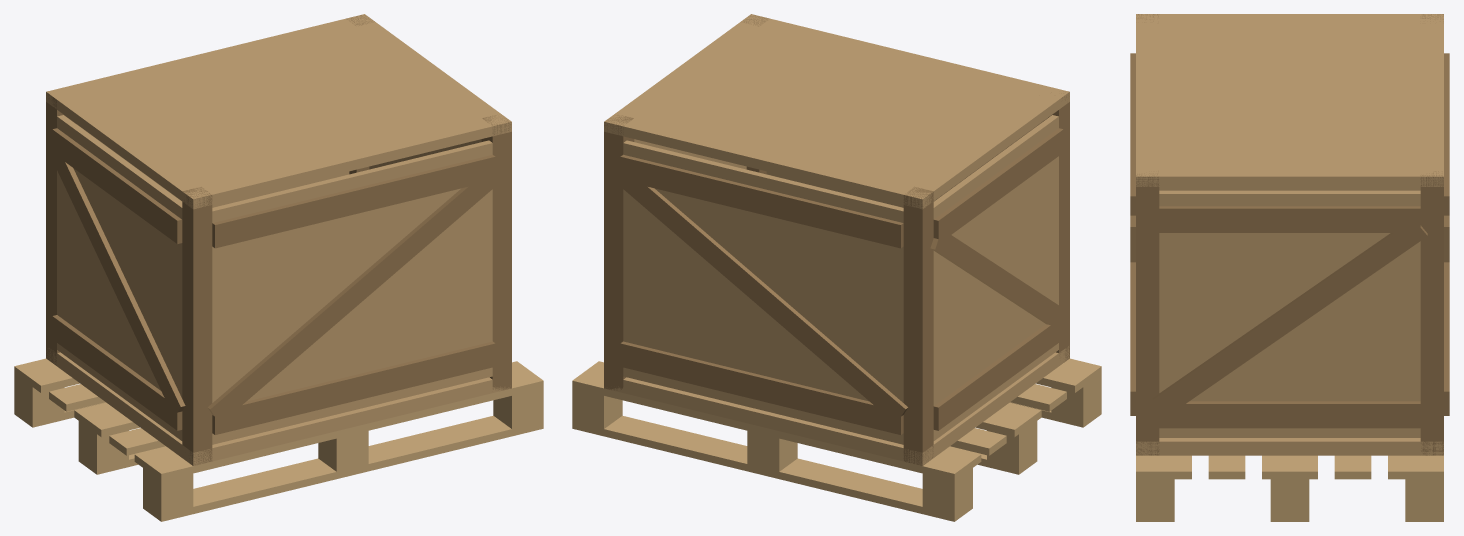
The model's file is pallet-crate.glb.
3 renders of one model, left to right at view 1: azimuth 30°, elevation 25°; view 2: azimuth 150°, elevation 25°; view 3: azimuth 270°, elevation 25°, orthographic. The views are drawn at different scales.
Visible parts, largest first — view 1: Prop_PalletCrate_mesh; view 2: Prop_PalletCrate_mesh; view 3: Prop_PalletCrate_mesh.
Boxes of the visible parts, x1=… form: Prop_PalletCrate_mesh: x1=14, y1=14, x2=543, y2=521; Prop_PalletCrate_mesh: x1=572, y1=14, x2=1101, y2=521; Prop_PalletCrate_mesh: x1=1130, y1=14, x2=1449, y2=521.
Bounding box in the file's own units: 1.2 × 0.944 × 0.83.
